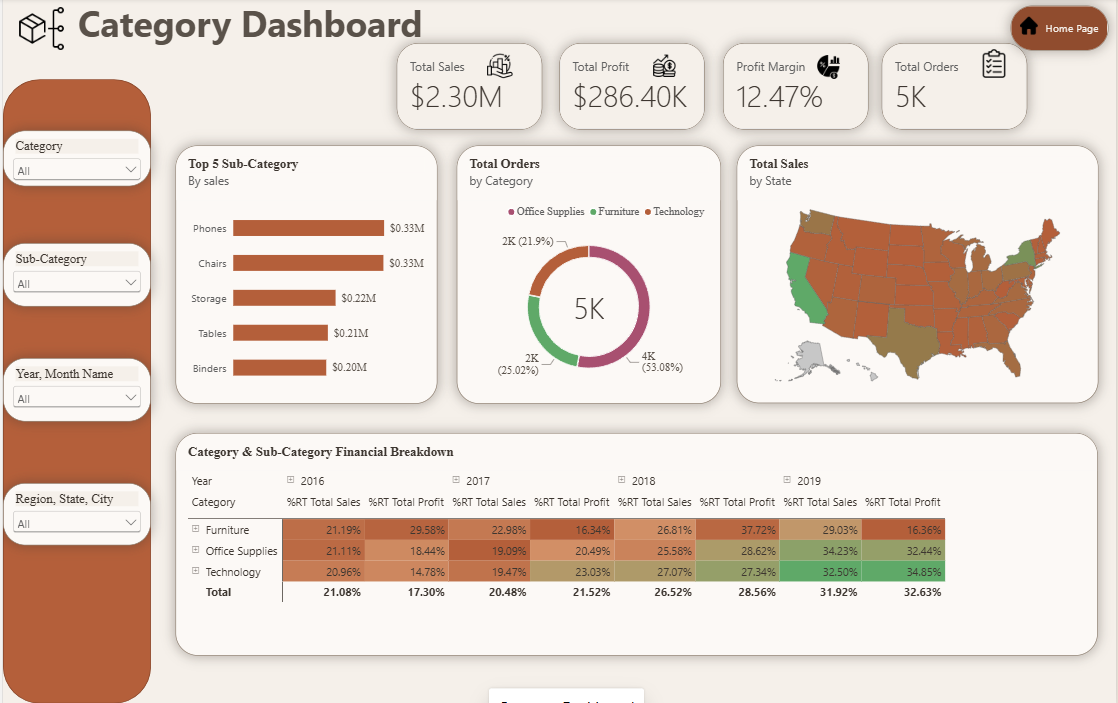

The page's visual inventory and layout, read from the dashboard file:
{"tool":"powerbi","page":{"name":"Category Dashboard","canvas":[1500,950],"ordinal":2},"visuals":[{"type":"cardVisual","fields":{"Data":["Orders.Total Order"]},"box":[1183.5,61.1,196.2,117.2],"z":0},{"type":"cardVisual","fields":{"Data":["Orders.Total Sales"]},"box":[530.7,61.1,196.2,117.2],"z":1000},{"type":"cardVisual","fields":{"Data":["Orders.Total Profit"]},"box":[749.4,61.1,196.2,117.2],"z":2000},{"type":"cardVisual","fields":{"Data":["Orders.Profit Margin"]},"box":[969.7,61.1,196.2,117.2],"z":3000},{"type":"shape","box":[0,109.3,199.4,841],"z":4000},{"type":"actionButton","box":[1775.3,43.4,99.5,61.3],"z":5000},{"type":"textbox","box":[100.3,0,498.2,74.8],"z":6000},{"type":"image","box":[12.7,6.4,76.4,68.4],"z":7000},{"type":"pivotTable","title":"Category & Sub-Category Financial Breakdown","fields":{"Columns":["Calendar.Year","Calendar.Month Name"],"Rows":["Orders.Category","Orders.Sub-Category"],"Values":["Orders.Total Sales","Orders.Total Profit"]},"box":[233.1,586,1242.6,300.4],"z":8000},{"type":"image","box":[628.8,74,82.1,34.5],"z":9000},{"type":"image","box":[853.9,74,73.9,34.5],"z":10000},{"type":"image","box":[1080.6,75.6,62.4,34.5],"z":11000},{"type":"barChart","title":"Top 5 Sub-Category","fields":{"Category":["Orders.Sub-Category"],"Y":["Orders.Total Sales"]},"box":[233.1,198.6,352.9,348],"z":12000},{"type":"donutChart","fields":{"Category":["Orders.Category"],"Y":["Orders.Total Order"]},"box":[610.6,198.6,356.2,348],"z":13000},{"type":"actionButton","box":[1357.2,9.6,131.9,61.1],"z":14000},{"type":"shapeMap","fields":{"Category":["Orders.State"],"Value":["Orders.Total Sales"]},"box":[989,199.4,487.2,347.3],"z":15000},{"type":"image","box":[1313.8,69.1,43.4,38.6],"z":16000},{"type":"image","box":[1357.2,25.7,49.9,24.1],"z":17000},{"type":"slicer","fields":{"Values":["Orders.Category"]},"box":[0,178.5,199.4,75.6],"z":18000},{"type":"slicer","fields":{"Values":["Orders.Sub-Category"]},"box":[0,329.7,199.4,85.2],"z":19000},{"type":"slicer","fields":{"Values":["Calendar.Year","Calendar.Month Name"]},"box":[0,485.6,199.4,85.2],"z":20000},{"type":"slicer","fields":{"Values":["Orders.Region","Orders.State","Orders.City"]},"box":[0,652.9,199.4,83.6],"z":21000}]}

Visuals, with their boxes in screenshot pixels (x1, y1, x2, y2), scaled from the page's 1500x950 canvas onto the 1118x703 screenshot:
cardVisual - Orders.Total Order: detection(882, 45, 1028, 132)
cardVisual - Orders.Total Sales: detection(396, 45, 542, 132)
cardVisual - Orders.Total Profit: detection(559, 45, 705, 132)
cardVisual - Orders.Profit Margin: detection(723, 45, 869, 132)
shape: detection(0, 81, 149, 702)
textbox: detection(75, 0, 446, 55)
image: detection(9, 5, 66, 55)
"Category & Sub-Category Financial Breakdown" pivotTable: detection(174, 434, 1100, 656)
image: detection(469, 55, 530, 80)
image: detection(636, 55, 692, 80)
image: detection(805, 56, 852, 81)
"Top 5 Sub-Category" barChart: detection(174, 147, 437, 404)
donutChart - Orders.Category x Orders.Total Order: detection(455, 147, 721, 404)
actionButton: detection(1012, 7, 1110, 52)
shapeMap - Orders.State x Orders.Total Sales: detection(737, 148, 1100, 405)
image: detection(979, 51, 1012, 80)
image: detection(1012, 19, 1049, 37)
slicer - Orders.Category: detection(0, 132, 149, 188)
slicer - Orders.Sub-Category: detection(0, 244, 149, 307)
slicer - Calendar.Year x Calendar.Month Name: detection(0, 359, 149, 422)
slicer - Orders.Region x Orders.State: detection(0, 483, 149, 545)
